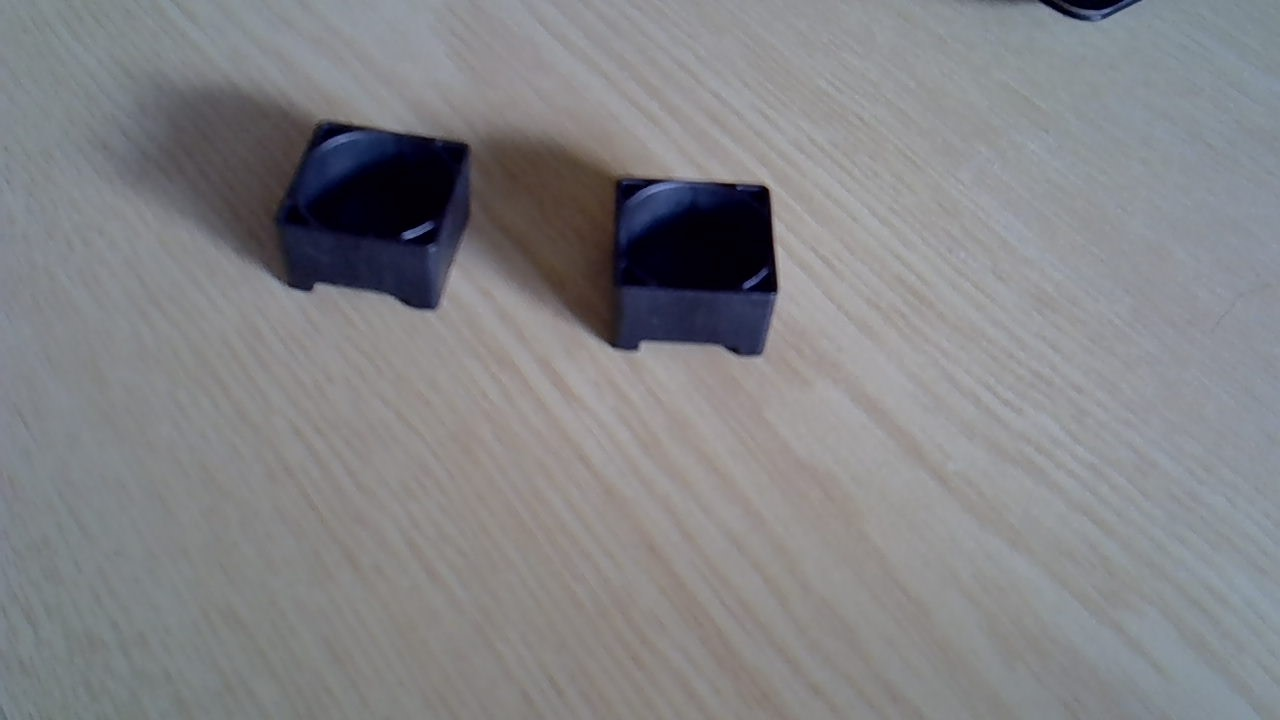Behaelter: (274, 117, 475, 311), (611, 178, 779, 356)
